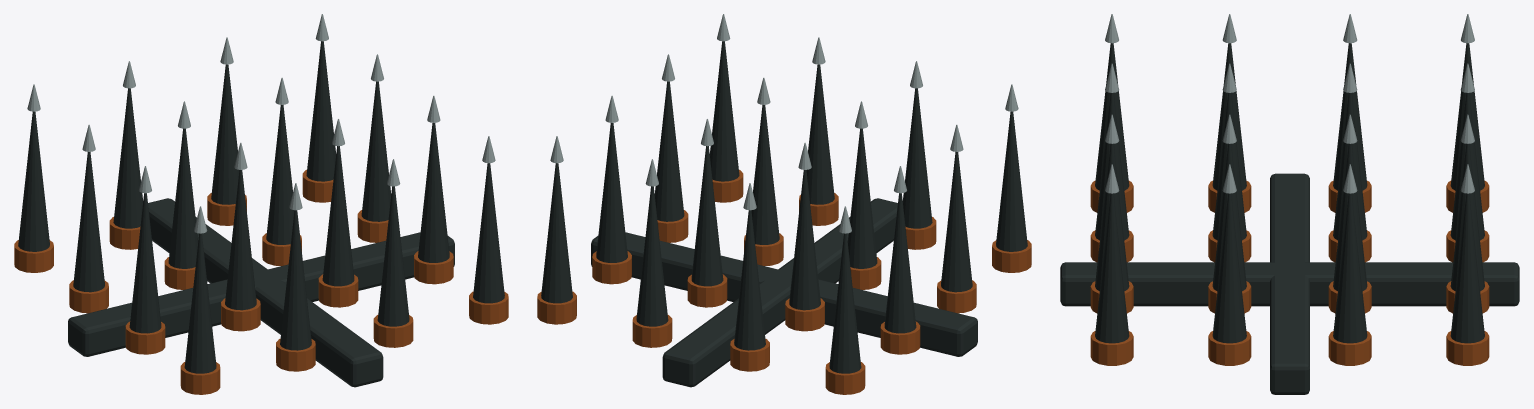
Rendered from spike_trap_spike_rack.glb.
3 views of the same model, side by side, from view 1: azimuth 30°, elevation 25°; view 2: azimuth 150°, elevation 25°; view 3: azimuth 270°, elevation 25° (orthographic). The views are drawn at different scales.
Parts seen in each view (by area): view 1: SpikeRackCrossFrameX, SpikeRackCrossFrameY, SpikeTrapForgedSpike.004, SpikeTrapForgedSpike.012, SpikeTrapForgedSpike, SpikeTrapForgedSpike.001, SpikeTrapForgedSpike.008, SpikeTrapForgedSpike.009, SpikeTrapForgedSpike.003, SpikeTrapForgedSpike.002, SpikeTrapForgedSpike.005, SpikeTrapForgedSpike.013 (+22 smaller); view 2: SpikeRackCrossFrameY, SpikeRackCrossFrameX, SpikeTrapForgedSpike.007, SpikeTrapForgedSpike.015, SpikeTrapForgedSpike.002, SpikeTrapForgedSpike.003, SpikeTrapForgedSpike.011, SpikeTrapForgedSpike.010, SpikeTrapForgedSpike, SpikeTrapForgedSpike.001, SpikeTrapForgedSpike.006, SpikeTrapForgedSpike.014 (+22 smaller); view 3: SpikeRackCrossFrameY, SpikeRackCrossFrameX, SpikeTrapForgedSpike.013, SpikeTrapForgedSpike.014, SpikeTrapForgedSpike.012, SpikeTrapForgedSpike.015, SpikeTrapForgedSpike.005, SpikeTrapForgedSpike.006, SpikeTrapForgedSpike.004, SpikeTrapForgedSpike.007, SpikeTrapForgedSpike.001, SpikeTrapForgedSpike.002 (+22 smaller).
Boxes of the visible parts, x1,y1,x2,y2 form: SpikeRackCrossFrameX: (68,232,454,356); SpikeRackCrossFrameY: (148,198,383,387); SpikeTrapForgedSpike.004: (280,210,311,350); SpikeTrapForgedSpike.012: (473,163,504,303); SpikeTrapForgedSpike: (184,233,216,373); SpikeTrapForgedSpike.001: (129,193,161,333); SpikeTrapForgedSpike.008: (377,186,409,326); SpikeTrapForgedSpike.009: (322,146,354,286); SpikeTrapForgedSpike.003: (18,111,49,251); SpikeTrapForgedSpike.002: (73,152,104,292); SpikeTrapForgedSpike.005: (225,170,256,310); SpikeTrapForgedSpike.013: (418,123,449,262); SpikeRackCrossFrameY: (662,198,897,387); SpikeRackCrossFrameX: (591,232,977,356); SpikeTrapForgedSpike.007: (734,210,765,350); SpikeTrapForgedSpike.015: (541,163,572,303); SpikeTrapForgedSpike.002: (884,193,916,333); SpikeTrapForgedSpike.003: (829,233,861,373); SpikeTrapForgedSpike.011: (636,186,668,326); SpikeTrapForgedSpike.010: (691,146,723,286); SpikeTrapForgedSpike: (996,111,1027,251); SpikeTrapForgedSpike.001: (941,152,972,292); SpikeTrapForgedSpike.006: (789,170,820,310); SpikeTrapForgedSpike.014: (596,123,627,262); SpikeRackCrossFrameY: (1060,262,1519,306); SpikeRackCrossFrameX: (1270,173,1309,394); SpikeTrapForgedSpike.013: (1212,193,1246,343); SpikeTrapForgedSpike.014: (1333,193,1367,343); SpikeTrapForgedSpike.012: (1095,193,1129,343); SpikeTrapForgedSpike.015: (1450,193,1484,343); SpikeTrapForgedSpike.005: (1212,93,1246,240); SpikeTrapForgedSpike.006: (1333,93,1367,240); SpikeTrapForgedSpike.004: (1095,93,1129,240); SpikeTrapForgedSpike.007: (1450,93,1484,240); SpikeTrapForgedSpike.001: (1212,43,1246,190); SpikeTrapForgedSpike.002: (1333,43,1367,190).
Bounding box in the file's own units: 1.6 × 0.81 × 1.6.
